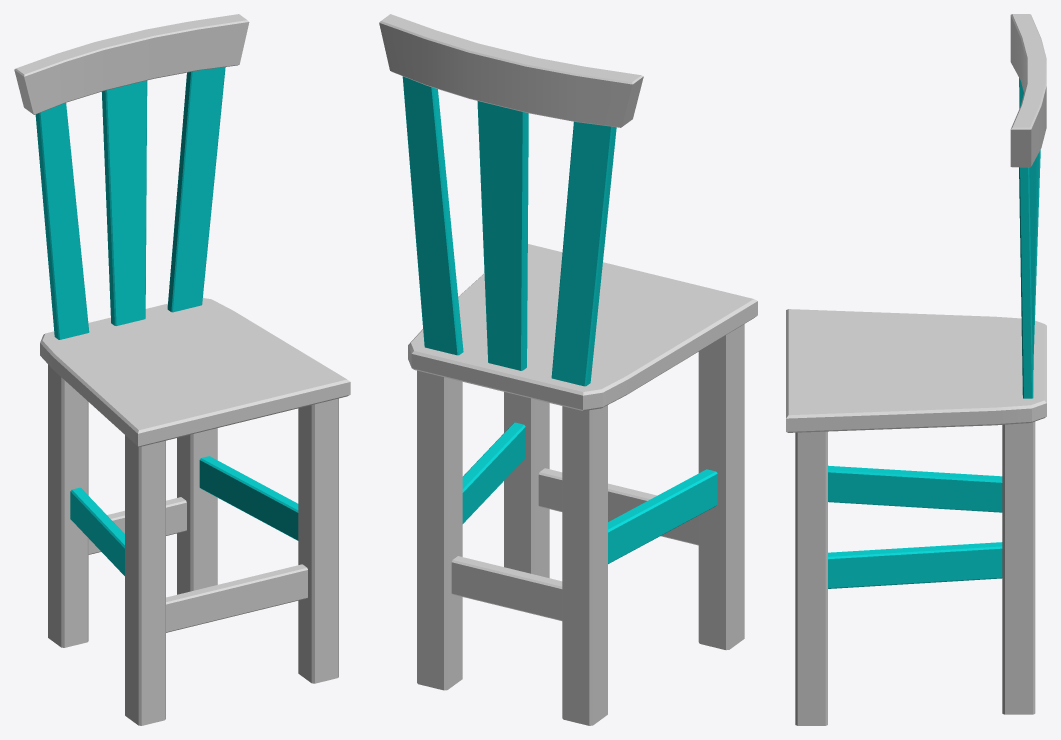
Rendered from ChairTexture.fbx.
3 renders of one model, left to right at view 1: azimuth 30°, elevation 25°; view 2: azimuth 150°, elevation 25°; view 3: azimuth 270°, elevation 25°, orthographic. The views are drawn at different scales.
Parts seen in each view (by area): view 1: Seat, Top, Leg1, Leg0, Leg2, BackBar0, BackBar1, BackBar2, Leg3, LegSupport2, LegSupport0, LegSupport1 (+1 smaller); view 2: Seat, Top, Leg2, Leg3, Leg1, BackBar0, BackBar2, BackBar1, Leg0, LegSupport1, LegSupport3, LegSupport0 (+1 smaller); view 3: Seat, Leg3, Leg0, LegSupport1, LegSupport0, Top, BackBar1, BackBar0.
Boxes of the visible parts, x1,y1,x2,y2 form: Seat: (40, 298, 350, 446); Top: (14, 14, 249, 114); Leg1: (125, 435, 165, 725); Leg0: (298, 398, 338, 683); Leg2: (48, 364, 88, 647); BackBar0: (102, 80, 147, 325); BackBar1: (167, 67, 225, 312); BackBar2: (35, 103, 89, 339); Leg3: (177, 428, 217, 594); LegSupport2: (166, 564, 307, 632); LegSupport0: (199, 456, 298, 540); LegSupport1: (70, 487, 124, 575); Seat: (408, 244, 757, 410); Top: (379, 14, 643, 127); Leg2: (562, 405, 607, 725); Leg3: (417, 370, 462, 690); Leg1: (698, 324, 744, 650); BackBar0: (477, 101, 528, 370); BackBar2: (551, 122, 616, 386); BackBar1: (402, 76, 463, 355); Leg0: (504, 392, 549, 578); LegSupport1: (608, 469, 717, 563); LegSupport3: (451, 556, 562, 620); LegSupport0: (462, 422, 525, 523); Seat: (786, 309, 1046, 432); Leg3: (1002, 421, 1035, 714); Leg0: (795, 431, 827, 725); LegSupport1: (828, 465, 1002, 512); LegSupport0: (828, 542, 1002, 588); Top: (1010, 14, 1046, 167); BackBar1: (1019, 157, 1036, 398); BackBar0: (1033, 150, 1040, 353).
Bounding box in the file's own units: 1.67 × 4.1 × 1.6.
